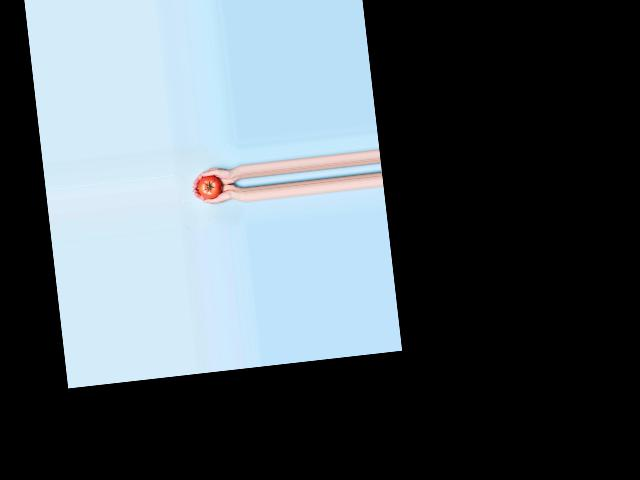tomato: (197, 174, 223, 199)
